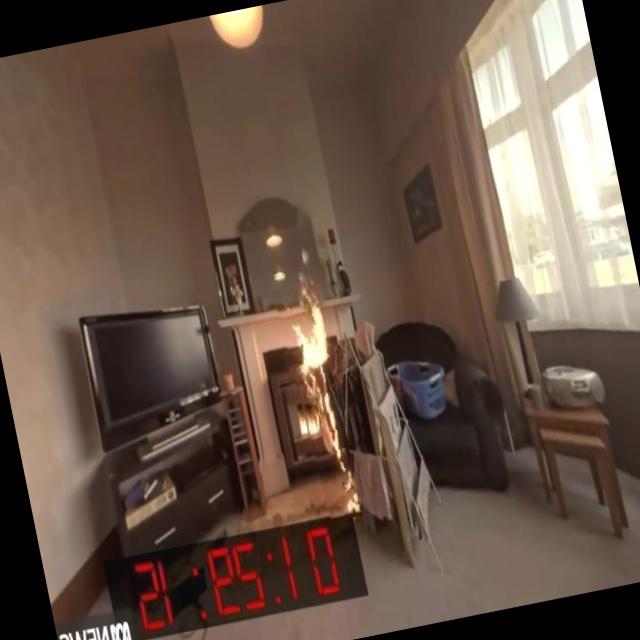fire: (236, 255, 381, 466)
